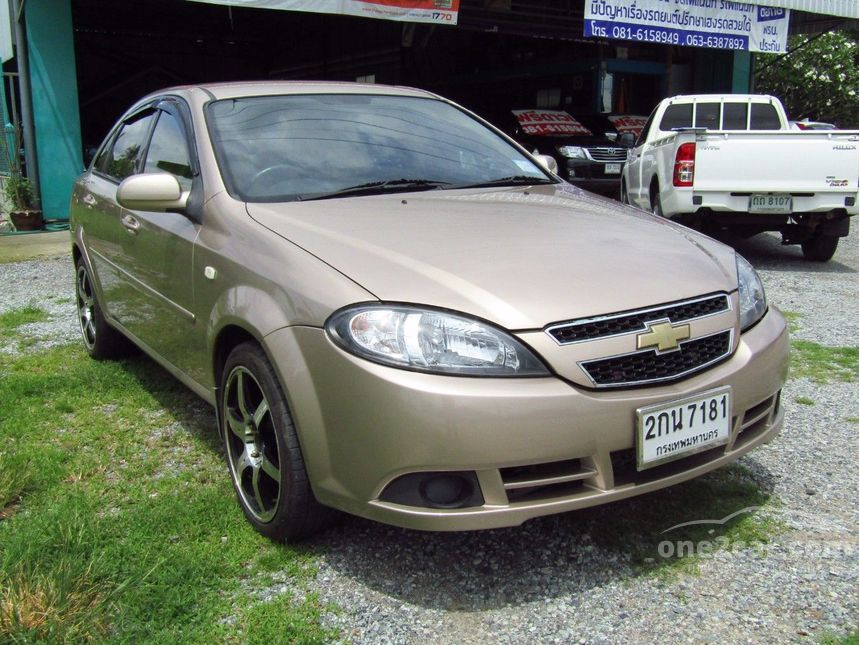sedan: (64, 75, 791, 538)
